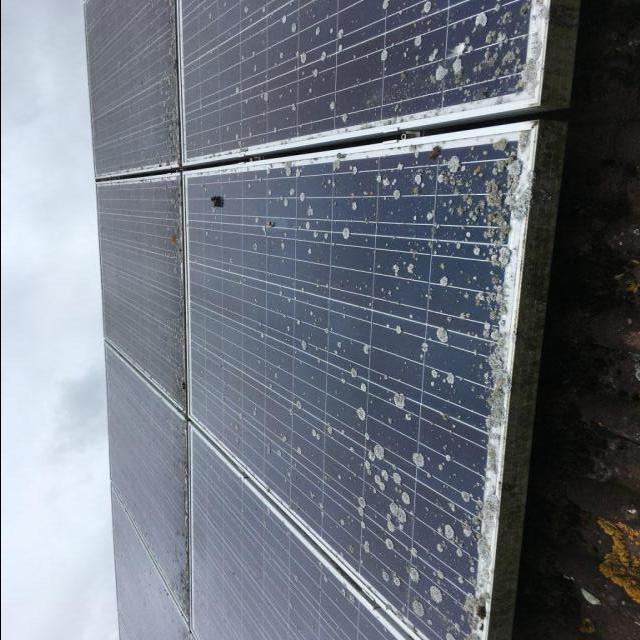soiled: (176, 0, 561, 640), (82, 2, 192, 640)
